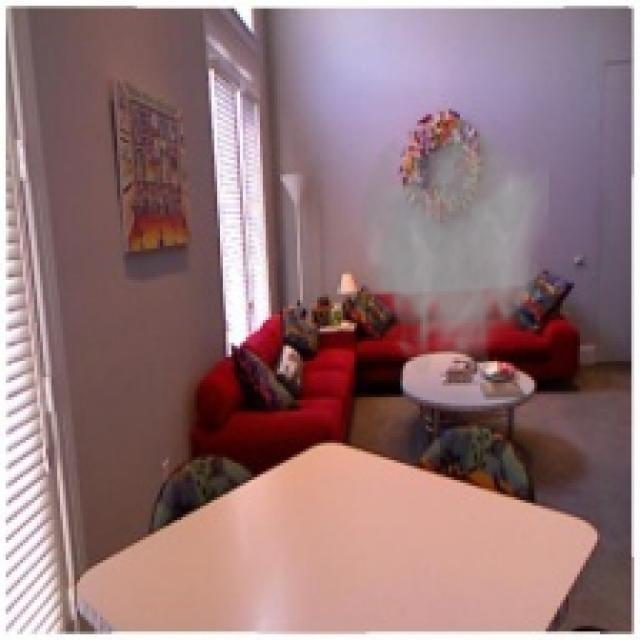Smoke: (346, 114, 548, 380)
